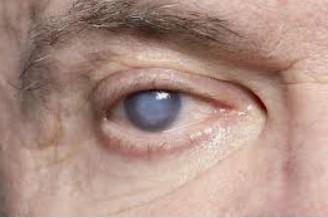eye: (121, 90, 182, 131)
